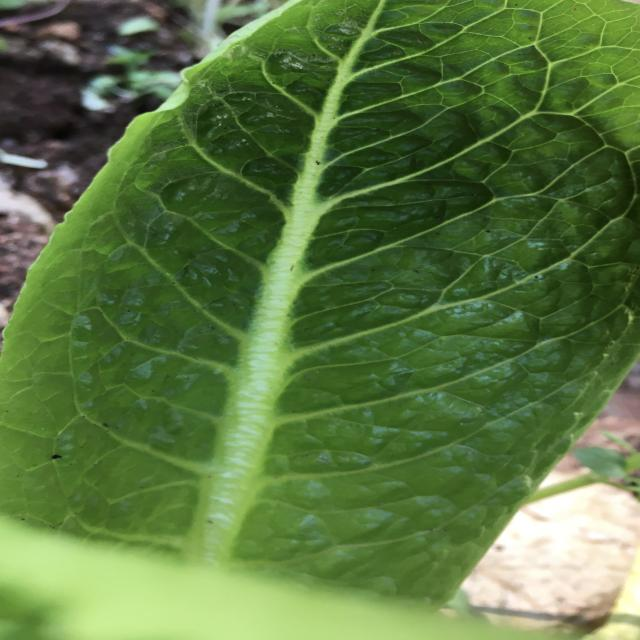Healthy Lettuce: (4, 2, 636, 612)
